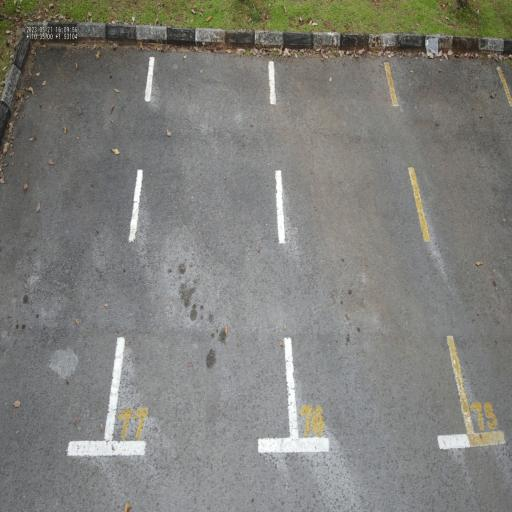Empty: (260, 28, 480, 460), (96, 34, 300, 465)
